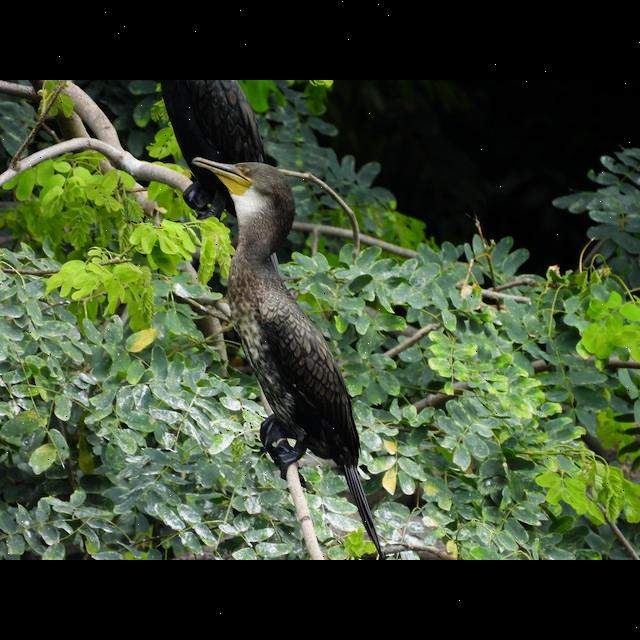cormorant: (184, 146, 382, 552)
